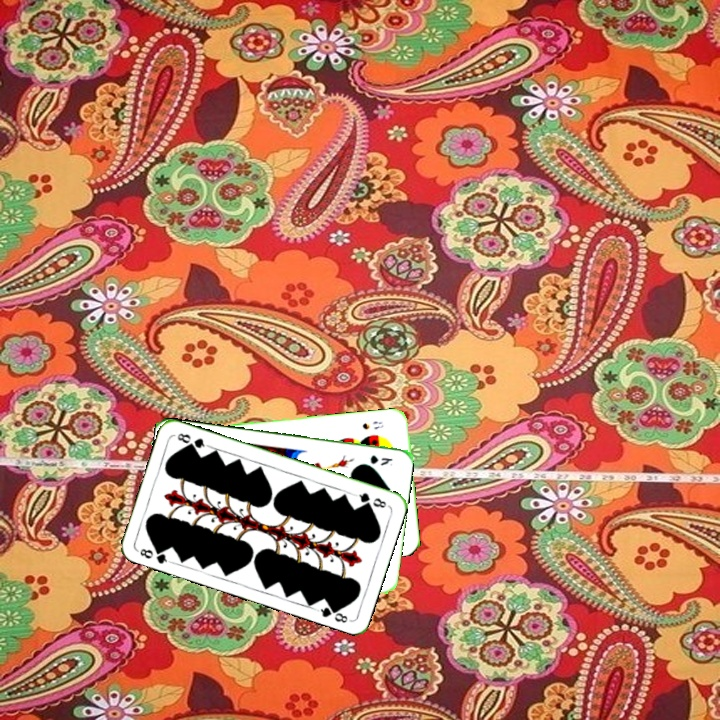G8: (134, 543, 173, 566), (351, 488, 389, 510)
GK: (366, 451, 395, 468)
S8: (358, 417, 386, 432)
